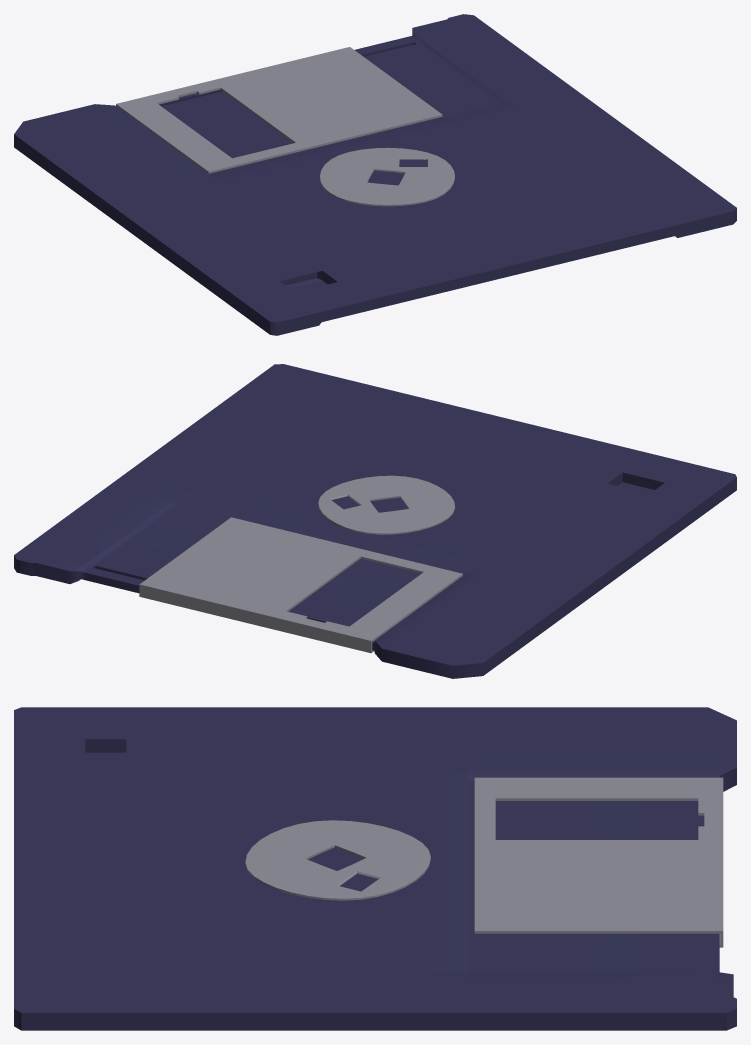
The model's file is floppy.fbx.
3 renders of one model, top to bottom at view 1: azimuth 30°, elevation 25°; view 2: azimuth 150°, elevation 25°; view 3: azimuth 270°, elevation 25°, orthographic. The views are drawn at different scales.
Visible parts, largest first — view 1: pCube156; view 2: pCube156; view 3: pCube156.
Part boxes in pixels (box(x1,y1,x2,y2)): pCube156: box(14, 14, 736, 335); pCube156: box(14, 364, 736, 678); pCube156: box(14, 707, 736, 1030).
Bounding box in the file's own units: 2.51 × 0.0755 × 2.51.
Materials: 1 (1 with a texture image).
